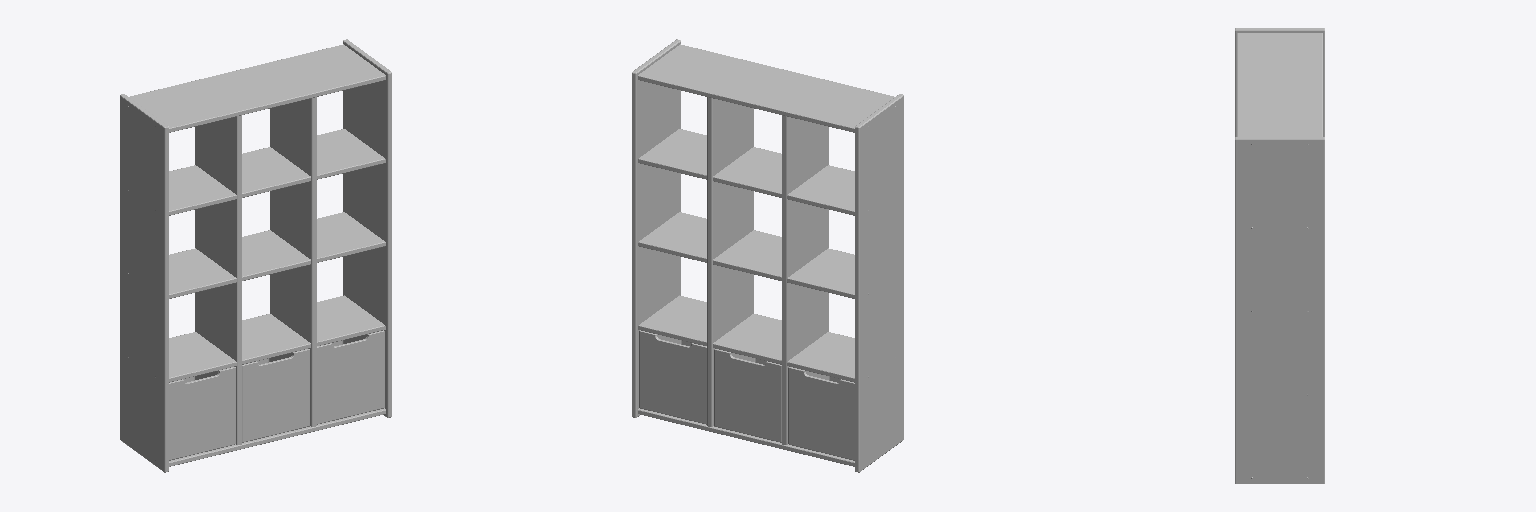
Rendered from wooden_shelves.obj.
3 renders of one model, left to right at view 1: azimuth 30°, elevation 25°; view 2: azimuth 150°, elevation 25°; view 3: azimuth 270°, elevation 25°, orthographic.
Visible parts, largest first — view 1: wooden_display_shelves_01_Cube.026, wooden_display_shelves_01_drawer_03_Cube.035, wooden_display_shelves_01_drawer_02_Cube.020, wooden_display_shelves_01_drawer_01_Cube.033; view 2: wooden_display_shelves_01_Cube.026, wooden_display_shelves_01_drawer_03_Cube.035, wooden_display_shelves_01_drawer_02_Cube.020, wooden_display_shelves_01_drawer_01_Cube.033; view 3: wooden_display_shelves_01_Cube.026.
Part boxes in pixels (bbox=[...]): wooden_display_shelves_01_Cube.026: bbox=[120, 39, 391, 472]; wooden_display_shelves_01_drawer_03_Cube.035: bbox=[317, 330, 384, 424]; wooden_display_shelves_01_drawer_02_Cube.020: bbox=[242, 349, 309, 442]; wooden_display_shelves_01_drawer_01_Cube.033: bbox=[169, 367, 235, 460]; wooden_display_shelves_01_Cube.026: bbox=[632, 39, 903, 472]; wooden_display_shelves_01_drawer_03_Cube.035: bbox=[639, 330, 706, 424]; wooden_display_shelves_01_drawer_02_Cube.020: bbox=[714, 349, 781, 442]; wooden_display_shelves_01_drawer_01_Cube.033: bbox=[788, 367, 854, 460]; wooden_display_shelves_01_Cube.026: bbox=[1235, 28, 1324, 483].
Size of the model in its own units: 1.08 by 1.56 by 0.3715.